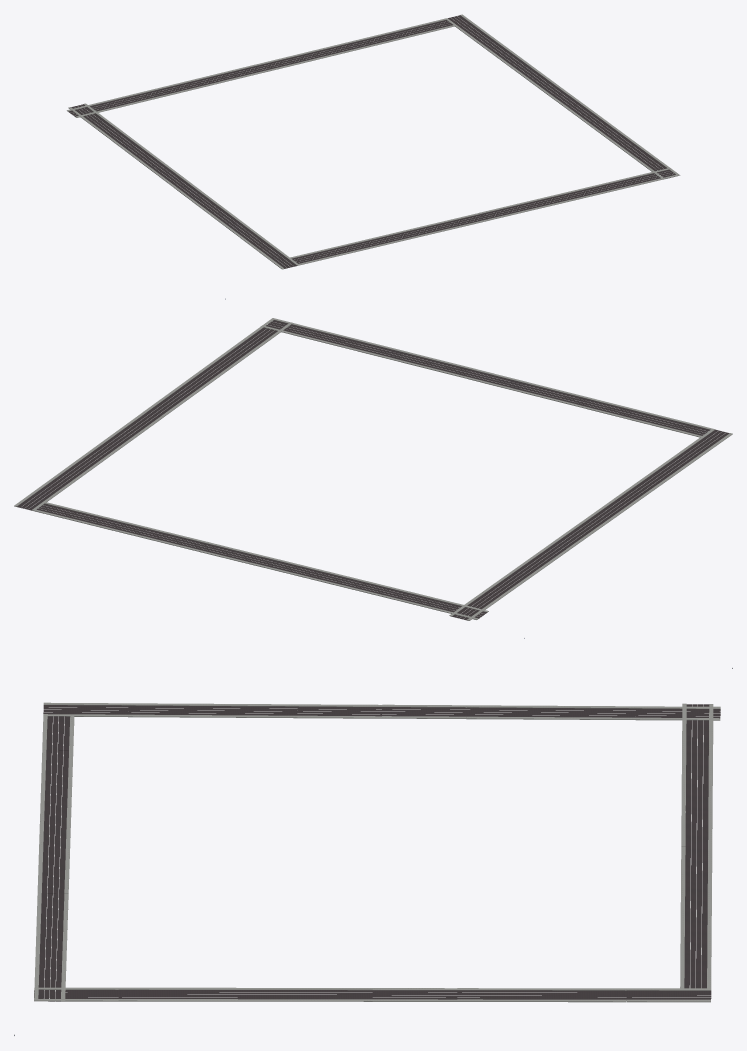
The picture shows the model from 3 angles, top to bottom: view 1: azimuth 30°, elevation 25°; view 2: azimuth 150°, elevation 25°; view 3: azimuth 270°, elevation 25°; orthographic projection. The views are drawn at different scales.
Parts seen in each view (by area): view 1: no part large enough to name; view 2: no part large enough to name; view 3: Geom3D (×30).
Boxes of the visible parts, left/top/right/bottom form: Geom3D (×30): left=38, top=705, right=720, bottom=1001.
Bounding box in the file's own units: 629 × 1.59 × 521.
24 materials, 2 textured.
